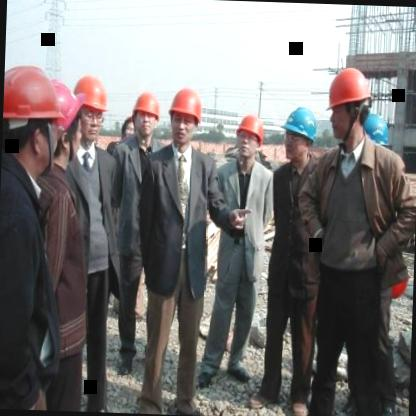helmet: (2, 65, 63, 178), (324, 63, 372, 144), (71, 72, 110, 148), (280, 101, 320, 168), (166, 82, 204, 150), (52, 78, 84, 158), (353, 110, 390, 170), (233, 109, 264, 168), (131, 89, 161, 144)
